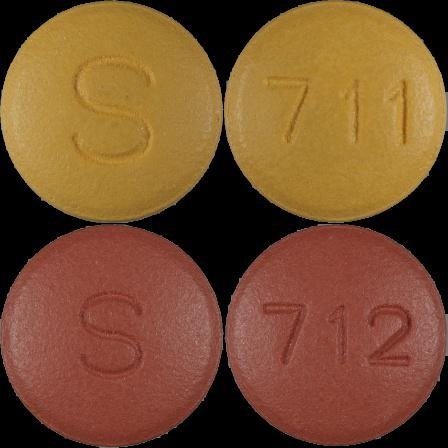54868-6014: (0, 0, 224, 224)
